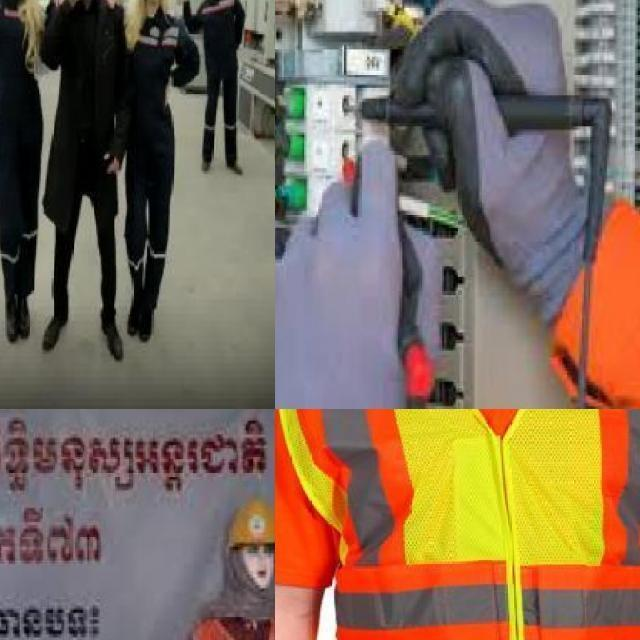apron: (395, 0, 597, 294), (275, 145, 428, 409)
